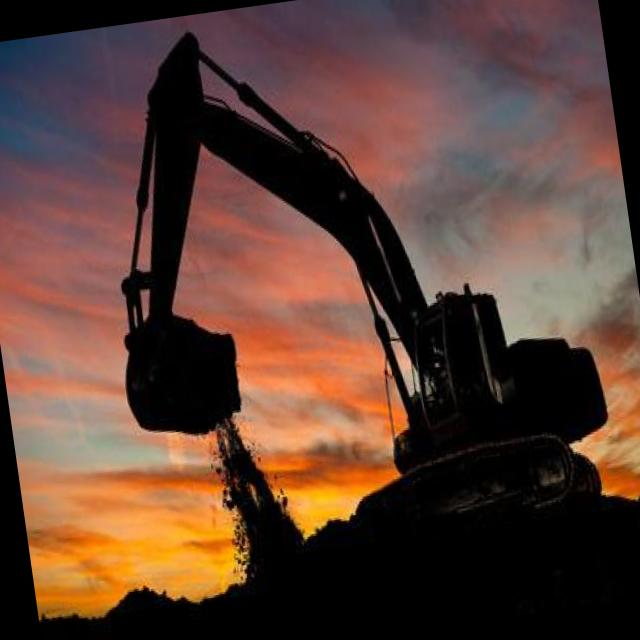Excavadora: (76, 0, 625, 585)
